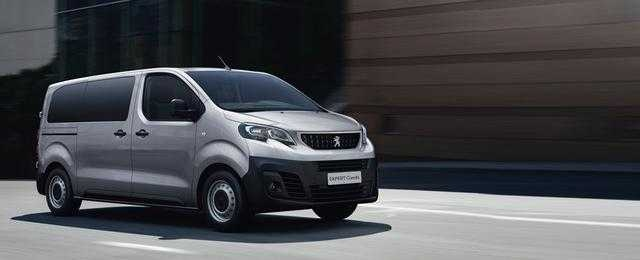van: (34, 66, 379, 232)
